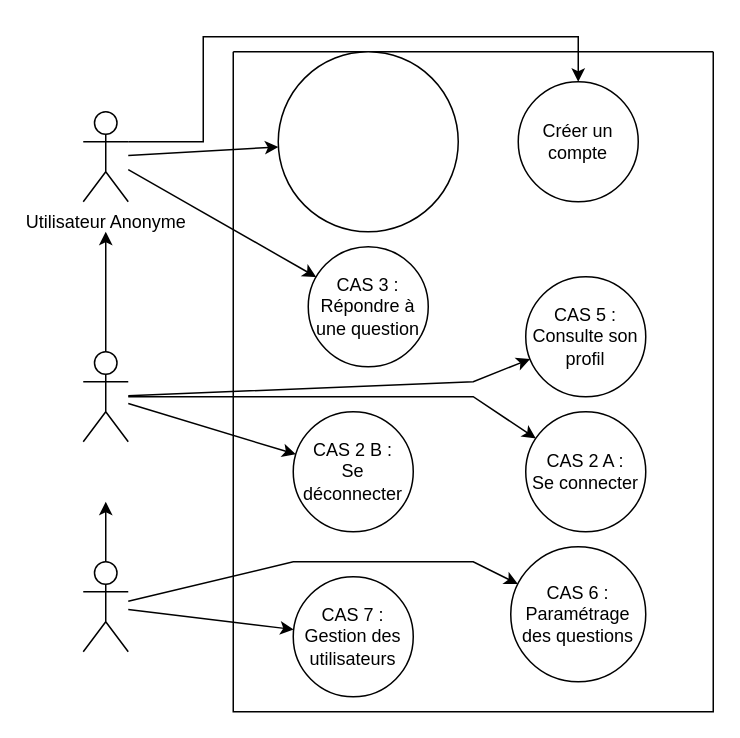
Some shapes in this 740 by 738 pixel diagram are drawn without their labels. The shapes that lost their labels are listed below. From the top down, each one's centre as x and y in pixels, then its label:
the point at 367,141: CAS 4 : Répondre à un questionnaire
the point at 105,396: Utilisateur Inscrit
the point at 105,606: Administrateur
